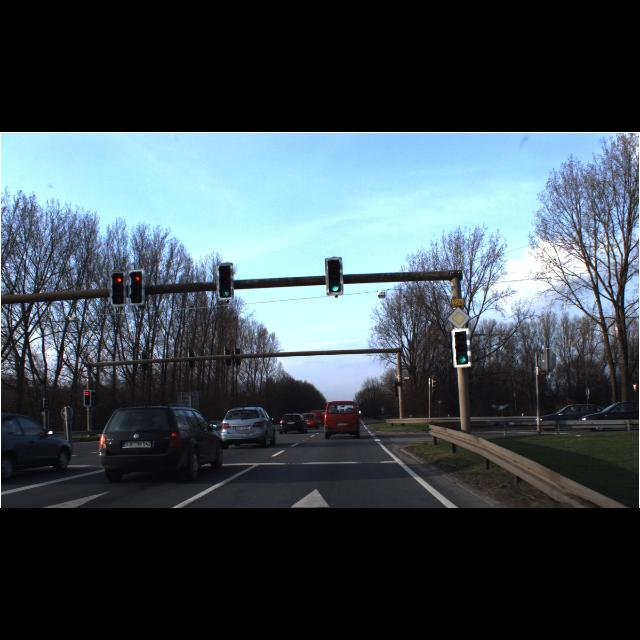other: (447, 306, 471, 330)
